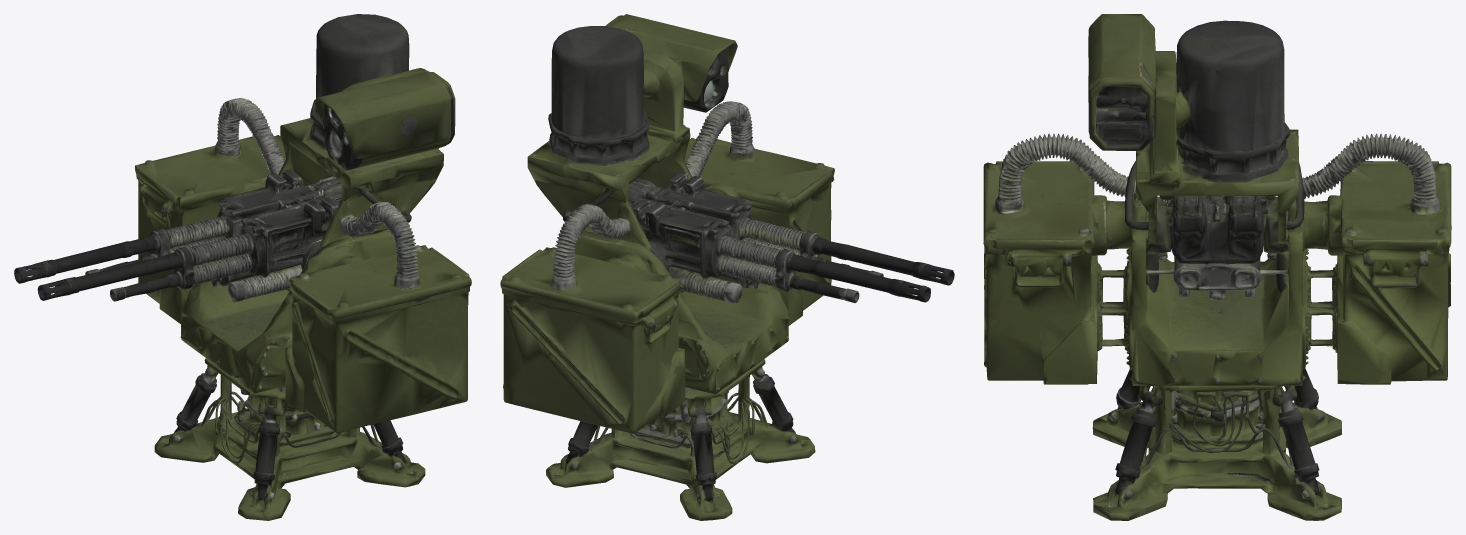
Rendered from rws.glb.
The picture shows the model from 3 angles, left to right: view 1: azimuth 30°, elevation 25°; view 2: azimuth 150°, elevation 25°; view 3: azimuth 270°, elevation 25°; orthographic projection. The views are drawn at different scales.
Visible parts, largest first — view 1: rws; view 2: rws; view 3: rws.
Part boxes in pixels (bbox=[...]): rws: bbox=[14, 14, 471, 520]; rws: bbox=[500, 14, 954, 520]; rws: bbox=[983, 14, 1451, 520].
Bounding box in the file's own units: 1.85 × 1.9 × 1.7.
1 material, 1 textured.
